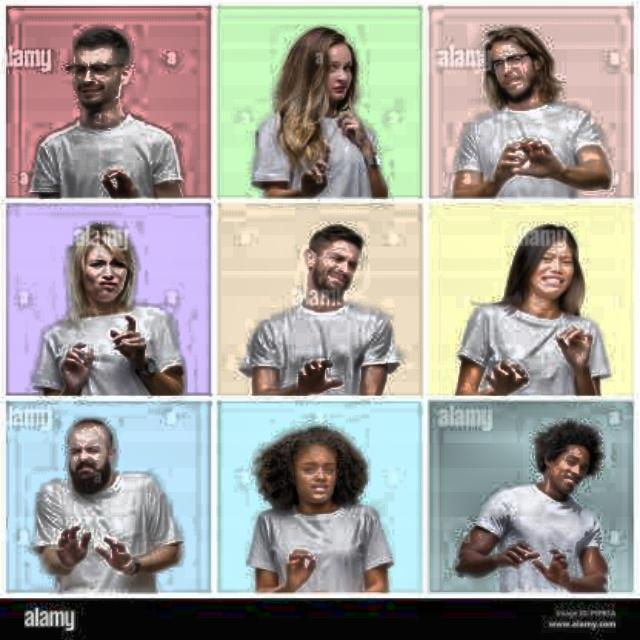disgust: (254, 419, 381, 525), (515, 412, 610, 504), (275, 27, 362, 114), (500, 224, 590, 308), (70, 25, 139, 111), (67, 226, 139, 302), (298, 225, 368, 298), (63, 413, 123, 494)
neutral: (481, 19, 562, 109)
